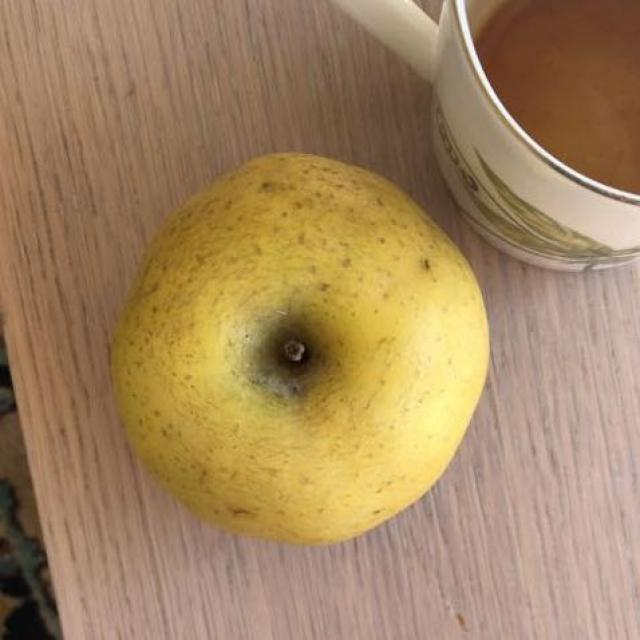apple: (114, 160, 484, 540)
